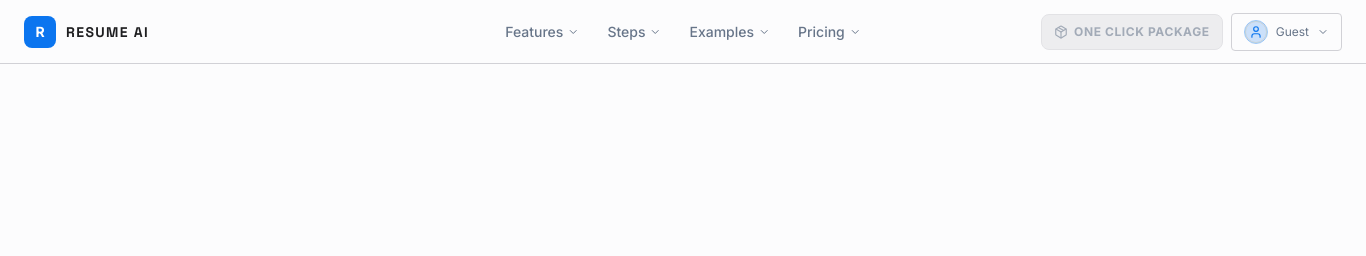
Navbar — anonymous guest session (isGuest: true) › shows Profile, AI, Settings and "Sign In / Sign Up" in the guest dropdown
The image size is (1366, 256).
Click the button "Guest" at (1286, 32), box [1231,12,1342,50]
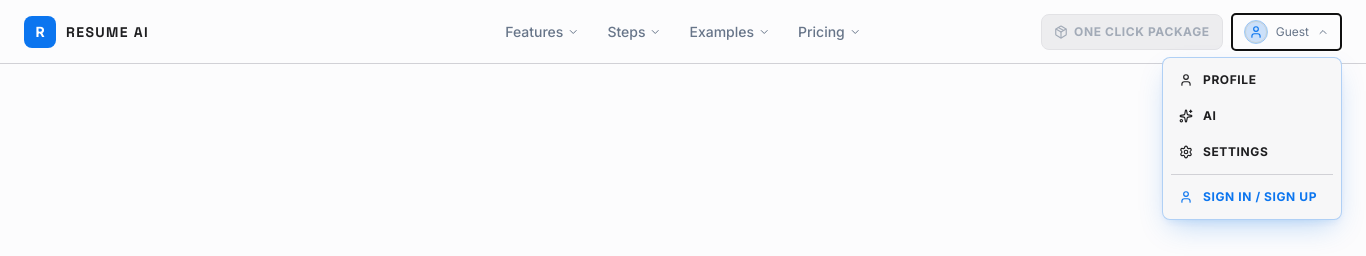
expect the button "Profile" is shown: met, box [1163,62,1341,98]
expect the button "AI" is shown: met, box [1163,98,1341,134]
expect the button "Settings" is shown: met, box [1163,134,1341,170]
